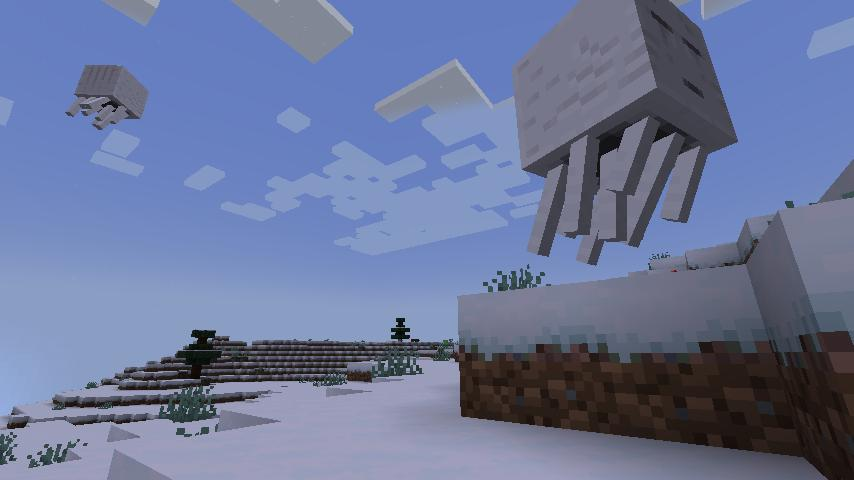ghast: (508, 0, 738, 269), (65, 61, 151, 136)
